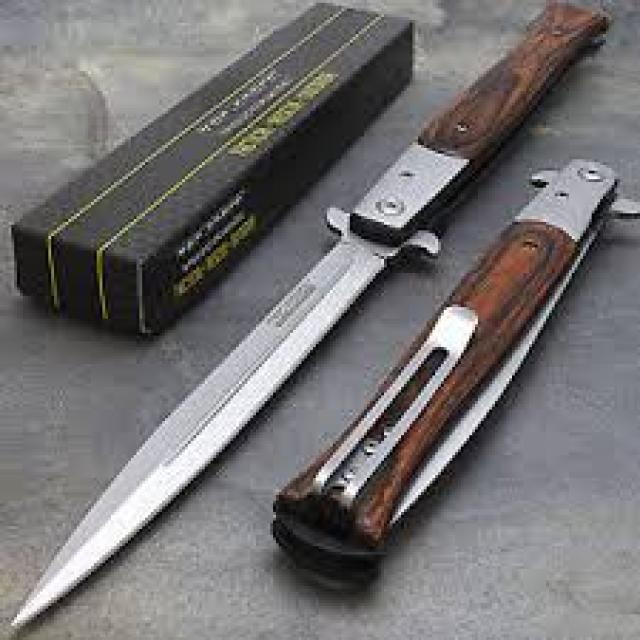knives: (3, 0, 620, 637)
